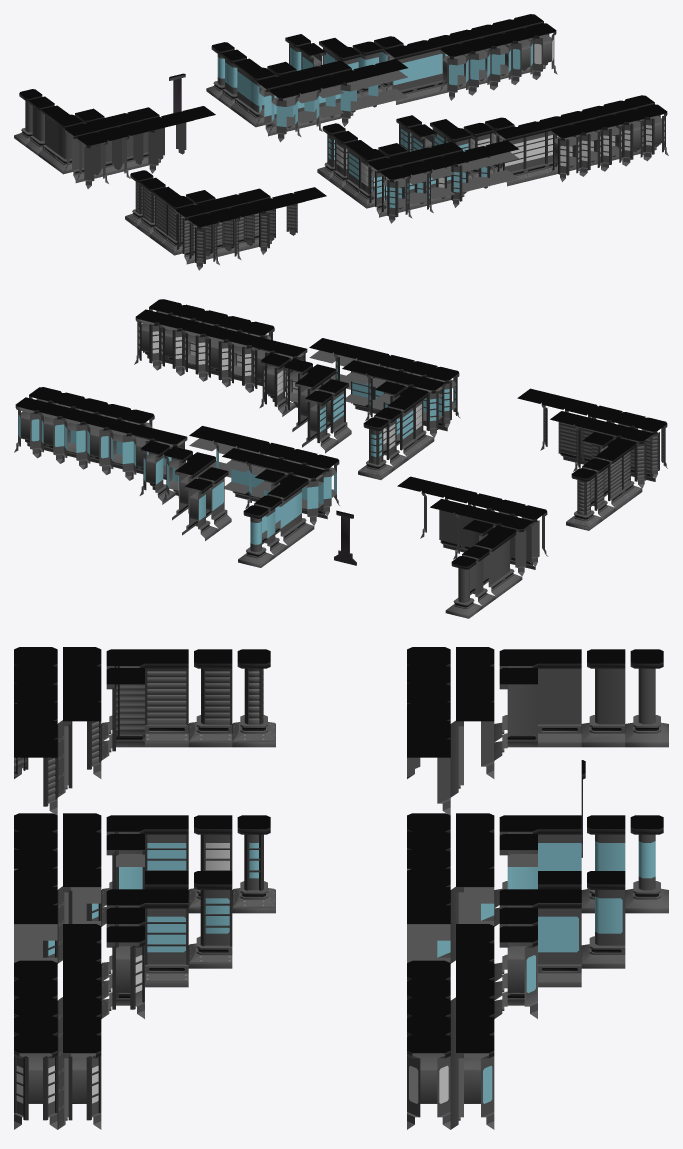
Rendered from walls and windows.fbx.
3 views of the same model, one above another, from view 1: azimuth 30°, elevation 25°; view 2: azimuth 150°, elevation 25°; view 3: azimuth 270°, elevation 25° (orthographic). The views are drawn at different scales.
Visible parts, largest first — view 1: Reinforced Window X-1B, Reinforced Window X-1, Window T-1C, Reinforced Window T-1C, Window X-1B, Window X-1, Reinforced Window X-1D, Wall X-1, Reinforced Window X-1C, Window X-1D, Window X-1C, Reinforced Window X-1E (+63 smaller); view 2: Reinforced Window L-1D, Window T-1D, Reinforced Window T-1H, Reinforced Window T-1D, Reinforced Window T-1G, Reinforced Window T-1F, Reinforced Window T-1E, Window T-1E, Window T-1F, Reinforced Window C-1B, Window T-1G, Window T-1H (+51 smaller); view 3: Window I-1C, Wall I, Reinforced Window I-1C, Reinforced Wall I, Reinforced Window X-1F, Reinforced Window C-1B, Window X-1F, Wall C, Window C-1B, Reinforced Window T-1H, Reinforced Wall C, Reinforced Window L-1D (+85 smaller).
Part boxes in pixels (box(x1,y1,x2,y2)): Reinforced Window X-1B: box(551, 125, 582, 181); Reinforced Window X-1: box(379, 167, 412, 223); Window T-1C: box(407, 40, 438, 99); Reinforced Window T-1C: box(518, 121, 549, 180); Window X-1B: box(439, 44, 472, 100); Window X-1: box(269, 85, 301, 142); Reinforced Window X-1D: box(594, 114, 625, 171); Wall X-1: box(76, 132, 108, 188); Reinforced Window X-1C: box(573, 120, 604, 176); Window X-1D: box(483, 33, 514, 89); Window X-1C: box(462, 38, 493, 95); Reinforced Window X-1E: box(616, 109, 647, 166); Reinforced Window L-1D: box(259, 353, 295, 416); Window T-1D: box(106, 420, 142, 480); Reinforced Window T-1H: box(134, 309, 170, 370); Reinforced Window T-1D: box(226, 332, 262, 392); Reinforced Window T-1G: box(157, 315, 193, 375); Reinforced Window T-1F: box(180, 320, 216, 381); Reinforced Window T-1E: box(203, 326, 239, 386); Window T-1E: box(83, 414, 119, 474); Window T-1F: box(60, 408, 96, 469); Reinforced Window C-1B: box(302, 390, 338, 453); Window T-1G: box(37, 403, 73, 463); Window T-1H: box(14, 397, 50, 457); Window I-1C: box(538, 889, 581, 987); Wall I: box(538, 649, 581, 747); Reinforced Window I-1C: box(145, 889, 188, 987); Reinforced Wall I: box(145, 663, 188, 747); Reinforced Window X-1F: box(14, 1034, 57, 1129); Reinforced Window C-1B: box(188, 871, 232, 968); Window X-1F: box(407, 1034, 450, 1129); Wall C: box(581, 649, 625, 747); Window C-1B: box(581, 871, 625, 968); Reinforced Window T-1H: box(57, 1034, 101, 1129); Reinforced Wall C: box(188, 661, 232, 747); Reinforced Window L-1D: box(101, 926, 144, 1018).
Size of the model in its own units: 2.07 by 15 by 22.
